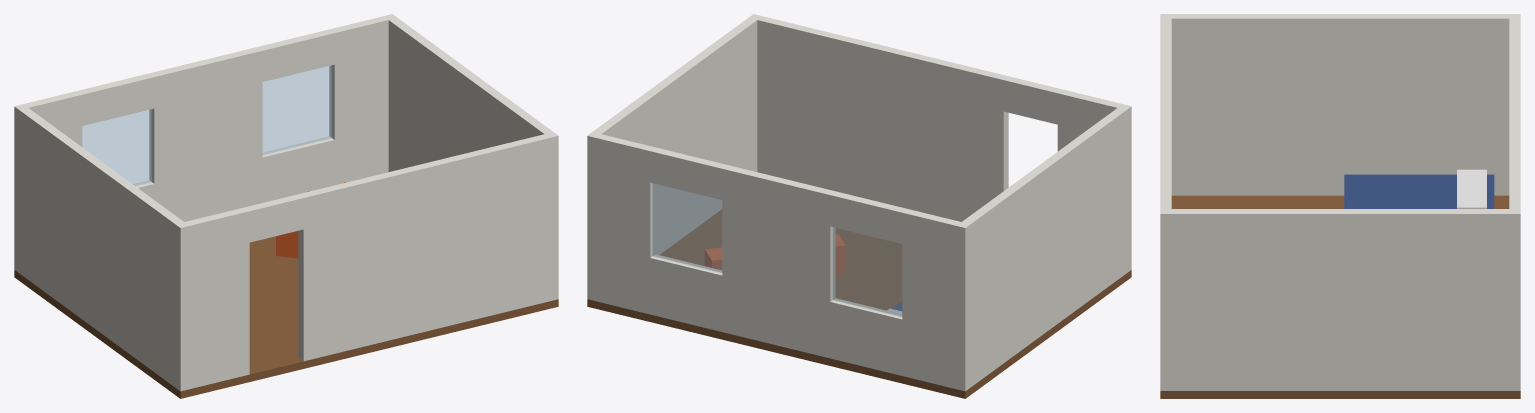
File: estudio.glb
3 renders of one model, left to right at view 1: azimuth 30°, elevation 25°; view 2: azimuth 150°, elevation 25°; view 3: azimuth 270°, elevation 25°, orthographic. The views are drawn at different scales.
Visible parts, largest first — view 1: muros, piso, vidrio-2, vidrio-1, sillas; view 2: muros, piso, vidrio-2, vidrio-1, sillas; view 3: muros, piso, cama, almohada.
Boxes of the visible parts, box(x1,y1,x2,y2) form: muros: box(14, 14, 558, 391); piso: box(14, 236, 558, 398); vidrio-2: box(262, 65, 331, 154); vidrio-1: box(82, 109, 151, 185); sillas: box(276, 182, 346, 258); muros: box(587, 14, 1131, 391); piso: box(587, 209, 1131, 398); vidrio-2: box(652, 183, 722, 272); vidrio-1: box(833, 227, 902, 316); sillas: box(704, 234, 845, 274); muros: box(1160, 14, 1520, 390); piso: box(1160, 195, 1520, 398); cama: box(1344, 174, 1494, 208); almohada: box(1457, 169, 1486, 208).
Bounding box in the file's own units: 6300 × 2720 × 4800.
